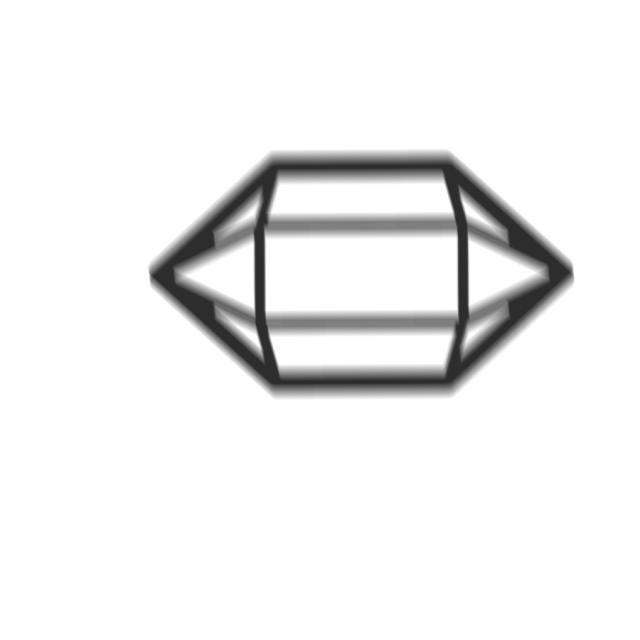crystal: (139, 145, 584, 411)
